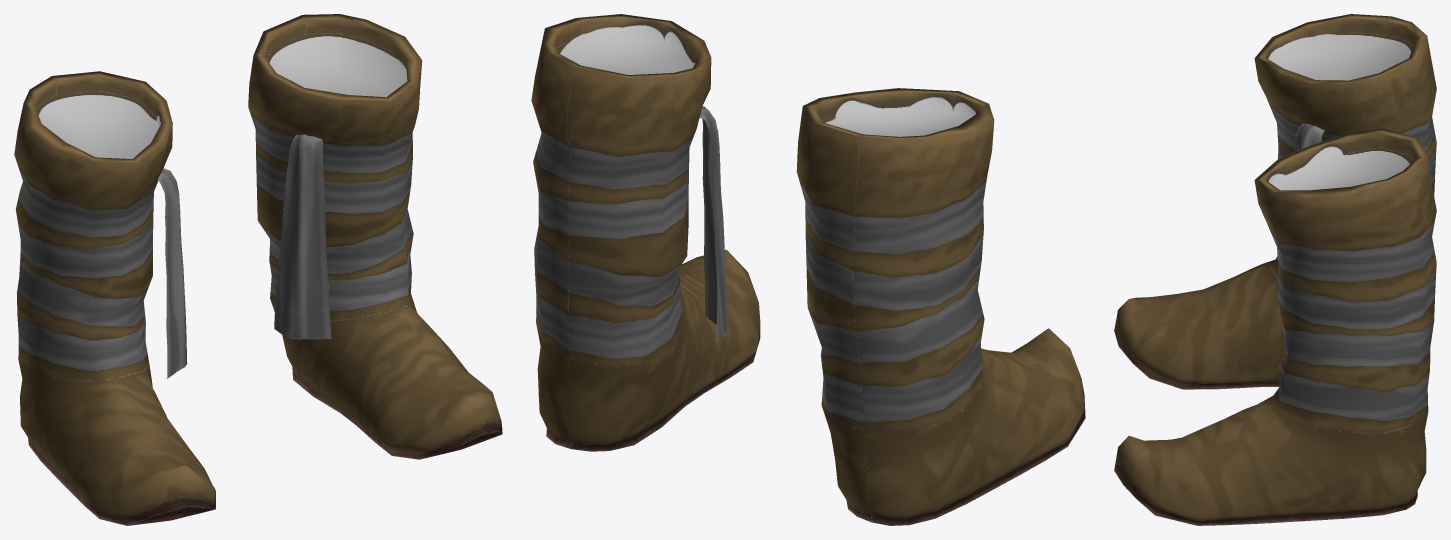
File: easterling02_v1_boots.fbx
The picture shows the model from 3 angles, left to right: view 1: azimuth 30°, elevation 25°; view 2: azimuth 150°, elevation 25°; view 3: azimuth 270°, elevation 25°; orthographic projection. The views are drawn at different scales.
Parts seen in each view (by area): view 1: easterling02_v1_boots; view 2: easterling02_v1_boots; view 3: easterling02_v1_boots.
Boxes of the visible parts, left/top/right/bottom form: easterling02_v1_boots: left=14, top=14, right=502, bottom=525; easterling02_v1_boots: left=531, top=14, right=1085, bottom=525; easterling02_v1_boots: left=1114, top=14, right=1436, bottom=525.
Bounding box in the file's own units: 0.4746 × 0.3438 × 0.3971.
1 material, 1 textured.
